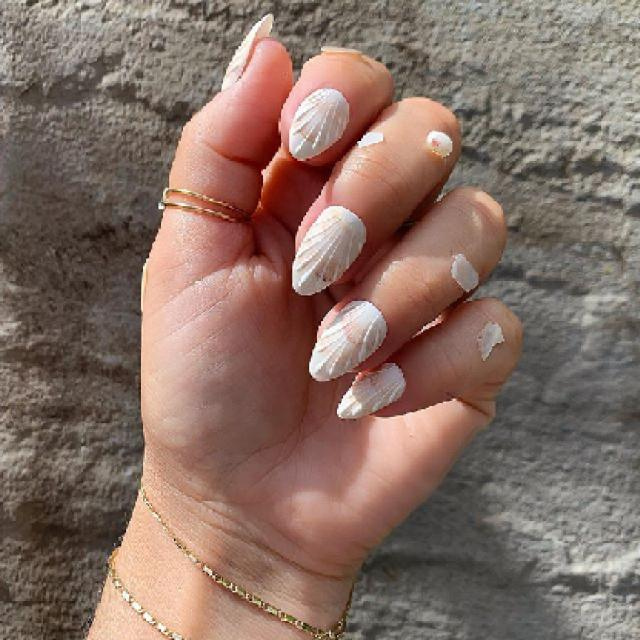Nail: (292, 206, 366, 295), (309, 300, 386, 381), (289, 88, 350, 159), (336, 362, 406, 419), (221, 14, 274, 89)
